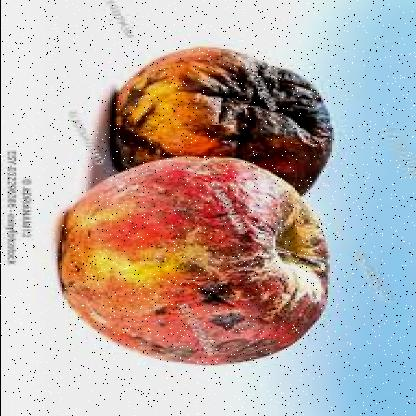damaged_apple: (63, 158, 327, 367), (104, 47, 340, 201)
